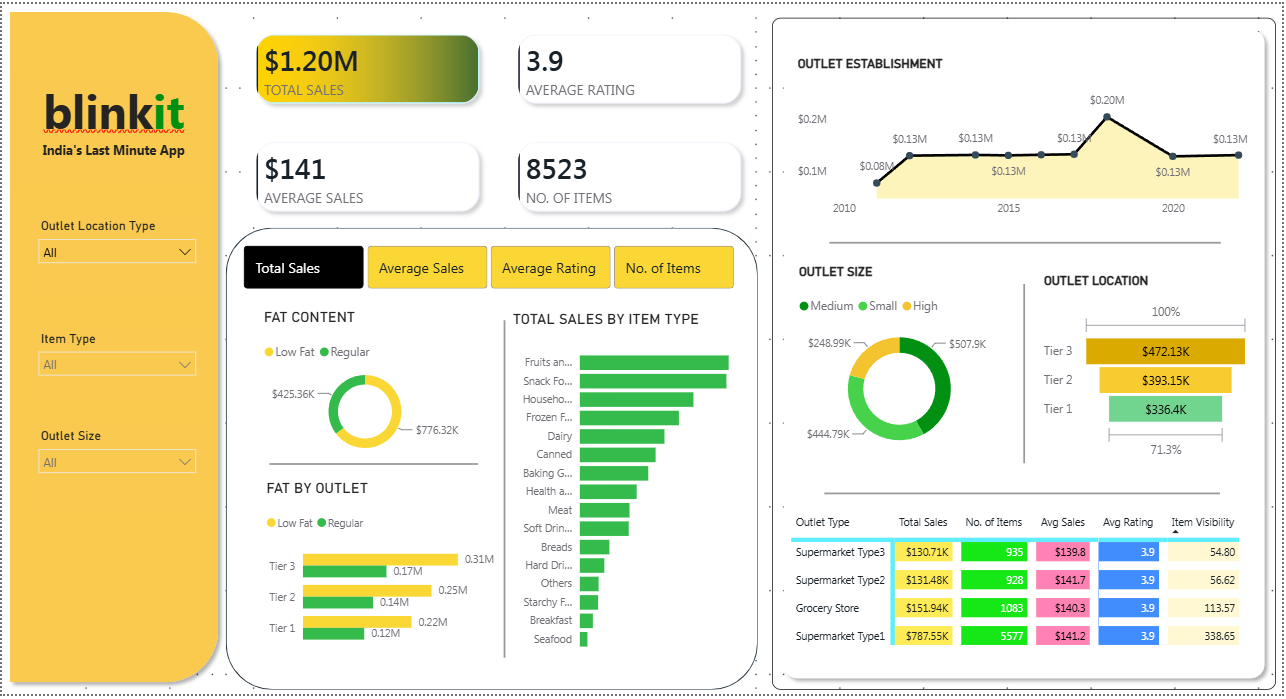

The dashboard page shown, as its layout file describes it:
{"tool":"powerbi","page":{"name":"Page 1","canvas":[1463,789],"ordinal":0},"visuals":[{"type":"shape","box":[0,0,256,784],"z":0},{"type":"shape","box":[880,16,576,768],"z":1000},{"type":"textbox","box":[16,80,224,128],"z":2000},{"type":"donutChart","title":"OUTLET SIZE","fields":{"Category":["Table1.Outlet Size"],"Y":["Sum(Table1.Sales)"]},"box":[905,297.5,240,227.5],"z":3000},{"type":"funnel","title":"OUTLET LOCATION","fields":{"Category":["Table1.Outlet Location Type"],"Y":["Sum(Table1.Sales)"]},"box":[1185,307.5,245,217.5],"z":4000},{"type":"areaChart","title":"OUTLET ESTABLISHMENT","fields":{"Category":["Table1.Outlet Establishment Year"],"Y":["Sum(Table1.Sales)"]},"box":[904.7,60.5,527.1,191.4],"z":6000},{"type":"shape","box":[940,492.5,452,133],"z":7000},{"type":"shape","box":[1085,320,165,205],"z":8000},{"type":"shape","box":[945,212.5,447.5,120],"z":9000},{"type":"slicer","fields":{"Values":["Table1.Outlet Location Type"]},"box":[32,240,200,95.6],"z":10000},{"type":"slicer","fields":{"Values":["Table1.Item Type"]},"box":[32,368,200,91.1],"z":11000},{"type":"slicer","fields":{"Values":["Table1.Outlet Size"]},"box":[32,480,200,100],"z":12000},{"type":"shape","box":[256,256,608,528],"z":13000},{"type":"cardVisual","fields":{"Data":["Sum(Table1.Sales)","Avg(Table1.Rating)","Avg(Table1.Sales)","CountNonNull(Table1.Item Type)"]},"box":[272,16,592,240],"z":14000},{"type":"pivotTable","fields":{"Rows":["Table1.Outlet Type"],"Values":["Sum(Table1.Sales)","CountNonNull(Table1.Item Type)","Avg(Table1.Sales)","Avg(Table1.Rating)","Sum(Table1.Item Visibility)"]},"box":[897.5,575,532.5,187.5],"z":15000},{"type":"advancedSlicerVisual","fields":{"Values":["Parameter.Parameter"]},"box":[272,272,573.6,58.2],"z":16000},{"type":"donutChart","title":"FAT CONTENT","fields":{"Y":["Table1.Total Sales"],"Category":["Table1.Item Fat Content"]},"box":[294.3,347.1,241.4,177.1],"z":17000},{"type":"clusteredBarChart","title":"FAT BY OUTLET","fields":{"Y":["Table1.Total Sales"],"Category":["Table1.Outlet Location Type"],"Series":["Table1.Item Fat Content"]},"box":[297.1,542.9,282.9,204.3],"z":18000},{"type":"shape","box":[424.3,361.4,300,385.7],"z":19000},{"type":"shape","box":[305.7,375.7,238.6,300],"z":20000},{"type":"barChart","title":"TOTAL SALES BY ITEM TYPE","fields":{"Y":["Table1.Total Sales"],"Category":["Table1.Item Type"]},"box":[578,350,278,398],"z":21000}]}

Visuals, with their boxes in screenshot pixels (x1, y1, x2, y2), scaled from the page's 1463x789 canvas onto the 1286x699 screenshot:
shape: rect(0, 0, 225, 695)
shape: rect(774, 14, 1280, 695)
textbox: rect(14, 71, 211, 184)
"OUTLET SIZE" donutChart: rect(796, 264, 1006, 465)
"OUTLET LOCATION" funnel: rect(1042, 272, 1257, 465)
"OUTLET ESTABLISHMENT" areaChart: rect(795, 54, 1259, 223)
shape: rect(826, 436, 1224, 554)
shape: rect(954, 283, 1099, 465)
shape: rect(831, 188, 1224, 295)
slicer - Table1.Outlet Location Type: rect(28, 213, 204, 297)
slicer - Table1.Item Type: rect(28, 326, 204, 407)
slicer - Table1.Outlet Size: rect(28, 425, 204, 514)
shape: rect(225, 227, 759, 695)
cardVisual - Sum(Table1.Sales) x Avg(Table1.Rating): rect(239, 14, 759, 227)
pivotTable - Table1.Outlet Type x Sum(Table1.Sales): rect(789, 509, 1257, 676)
advancedSlicerVisual - Parameter.Parameter: rect(239, 241, 743, 293)
"FAT CONTENT" donutChart: rect(259, 308, 471, 464)
"FAT BY OUTLET" clusteredBarChart: rect(261, 481, 510, 662)
shape: rect(373, 320, 637, 662)
shape: rect(269, 333, 478, 599)
"TOTAL SALES BY ITEM TYPE" barChart: rect(508, 310, 752, 663)
